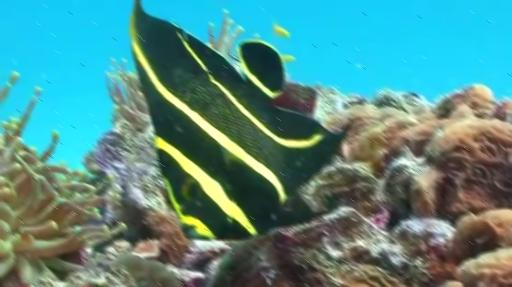Fish: (129, 0, 344, 238)
